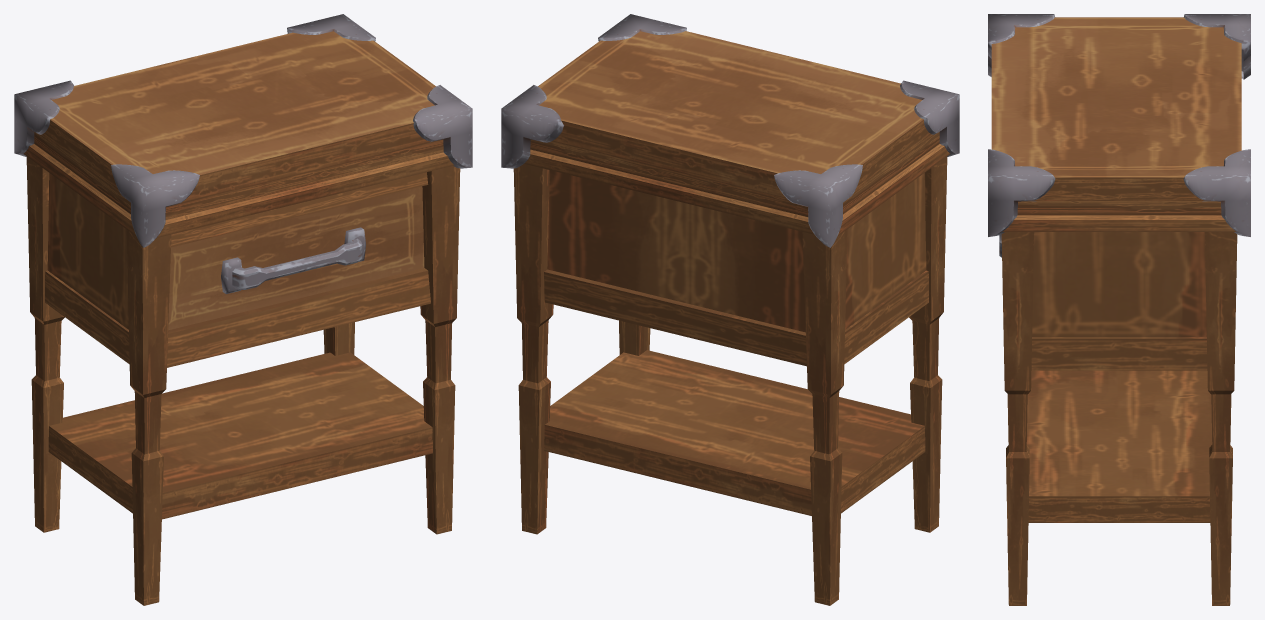
The model's file is Nightstand_Drawer.fbx.
3 renders of one model, left to right at view 1: azimuth 30°, elevation 25°; view 2: azimuth 150°, elevation 25°; view 3: azimuth 270°, elevation 25°, orthographic.
Parts seen in each view (by area): view 1: Nightstand_Drawer; view 2: Nightstand_Drawer; view 3: Nightstand_Drawer.
Part boxes in pixels (left/top/right/bottom): Nightstand_Drawer: left=14, top=14, right=472, bottom=605; Nightstand_Drawer: left=501, top=14, right=959, bottom=605; Nightstand_Drawer: left=988, top=14, right=1250, bottom=605.
Bounding box in the file's own units: 72.18 × 89.51 × 49.12.
